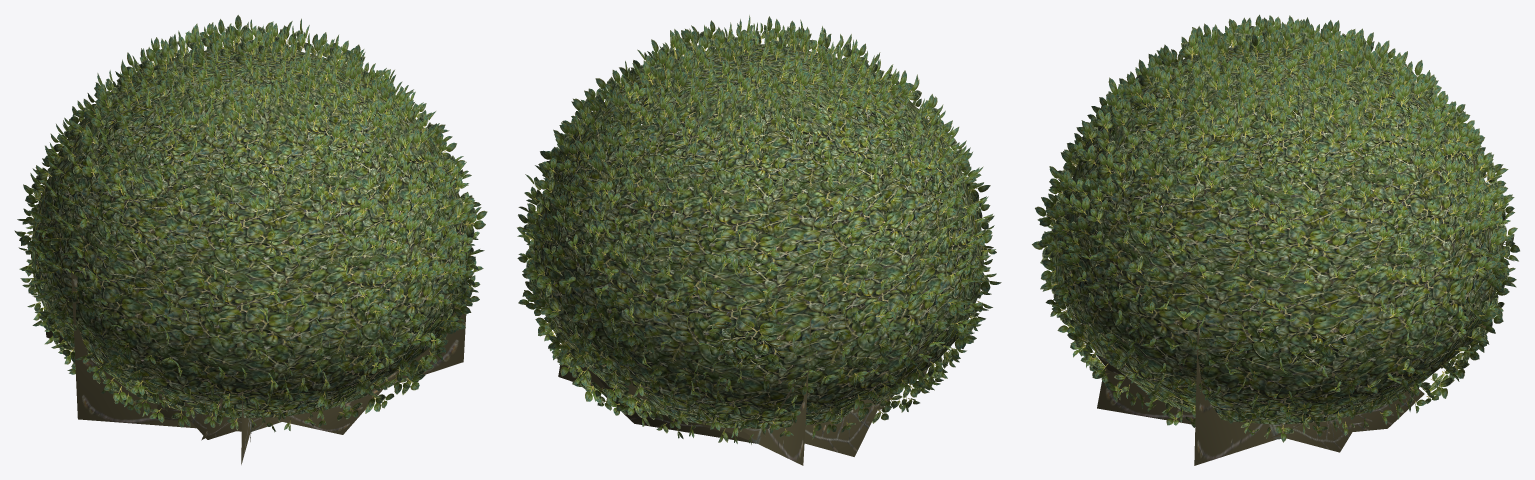
File: BurfordHolly_Gumdrop_Low.fbx
The picture shows the model from 3 angles, left to right: view 1: azimuth 30°, elevation 25°; view 2: azimuth 150°, elevation 25°; view 3: azimuth 270°, elevation 25°; orthographic projection. The views are drawn at different scales.
Visible parts, largest first — view 1: BurfordHolly_Gumdrop_Low2; view 2: BurfordHolly_Gumdrop_Low2; view 3: BurfordHolly_Gumdrop_Low2.
Part boxes in pixels (left/top/right/bottom): BurfordHolly_Gumdrop_Low2: left=14, top=15, right=487, bottom=464; BurfordHolly_Gumdrop_Low2: left=517, top=15, right=1001, bottom=465; BurfordHolly_Gumdrop_Low2: left=1032, top=14, right=1519, bottom=465.
Size of the model in its own units: 162 by 147 by 162.
